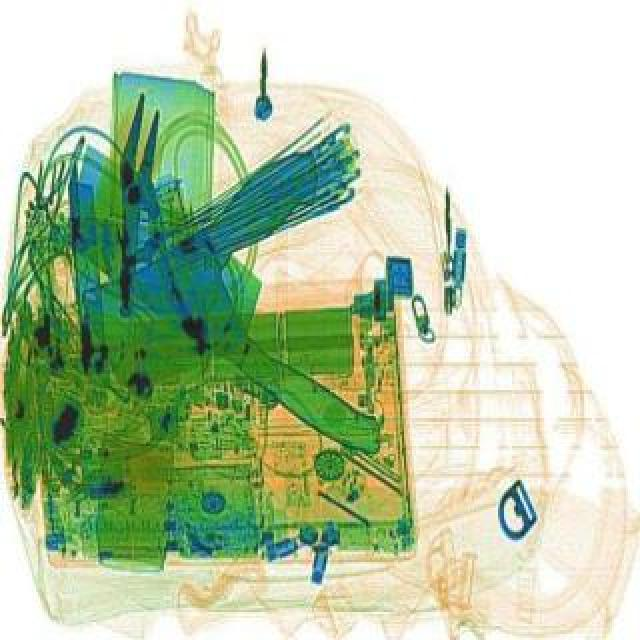knife: (24, 138, 418, 476), (56, 144, 378, 404)
